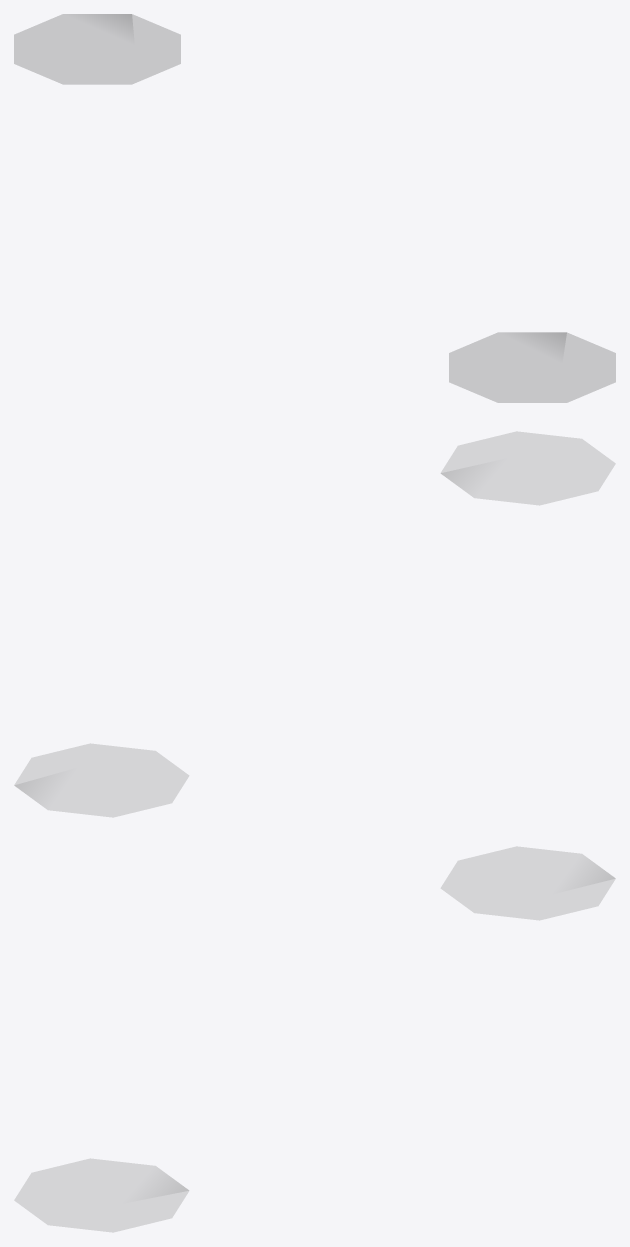
3 views of the same model, one above another, from view 1: azimuth 30°, elevation 25°; view 2: azimuth 150°, elevation 25°; view 3: azimuth 330°, elevation 25° (orthographic). The views are drawn at different scales.
Visible parts, largest first — view 1: Joint_0_Object_0, Joint_0_Object_1; view 2: Joint_0_Object_1, Joint_0_Object_0; view 3: Joint_0_Object_1, Joint_0_Object_0.
Boxes of the visible parts, x1=… form: Joint_0_Object_0: x1=449, y1=332, x2=615, y2=402; Joint_0_Object_1: x1=14, y1=14, x2=180, y2=84; Joint_0_Object_1: x1=14, y1=743, x2=188, y2=817; Joint_0_Object_0: x1=441, y1=431, x2=615, y2=505; Joint_0_Object_1: x1=441, y1=846, x2=615, y2=920; Joint_0_Object_0: x1=14, y1=1158, x2=188, y2=1232.
Bounding box in the file's own units: 270 × 1.7 × 1582.
1 material, 1 textured.
